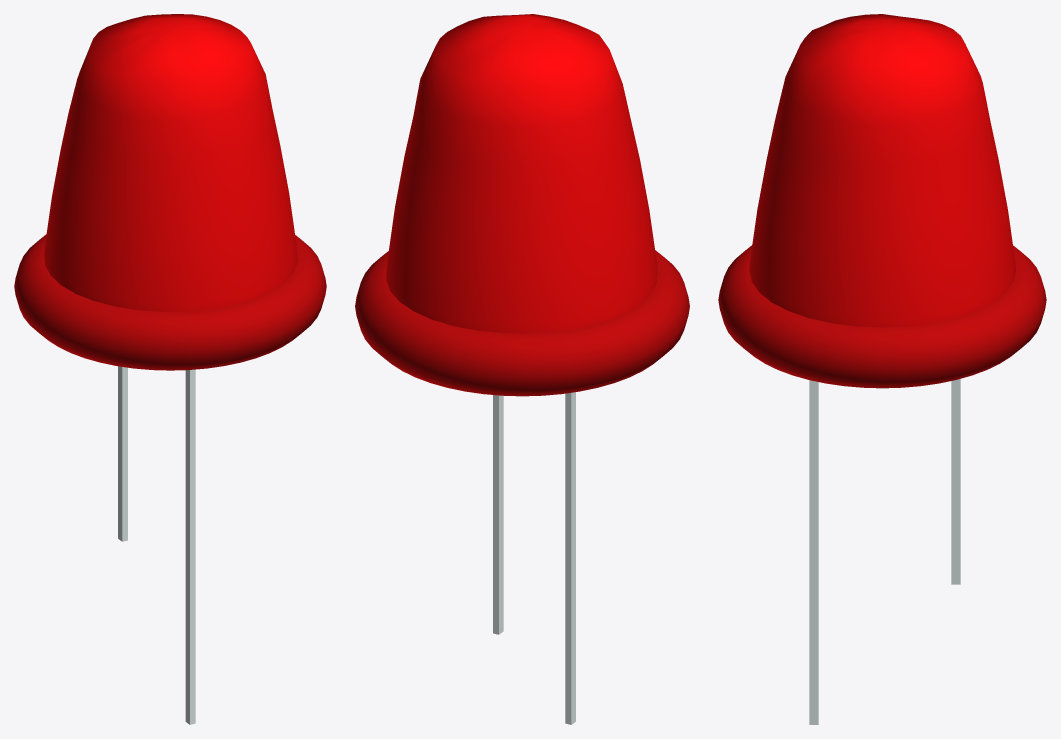
Rendered from LED Red.fbx.
The picture shows the model from 3 angles, left to right: view 1: azimuth 30°, elevation 25°; view 2: azimuth 150°, elevation 25°; view 3: azimuth 270°, elevation 25°; orthographic projection. The views are drawn at different scales.
Parts seen in each view (by area): view 1: Cone, Cube.002, Cube.003; view 2: Cone, Cube.002, Cube.003; view 3: Cone, Cube.002, Cube.003.
Boxes of the visible parts, x1,y1,x2,y2 form: Cone: (14, 14, 326, 370); Cube.002: (185, 369, 195, 724); Cube.003: (118, 366, 127, 541); Cone: (355, 14, 689, 396); Cube.002: (565, 392, 575, 724); Cube.003: (493, 395, 503, 634); Cone: (718, 14, 1046, 388); Cube.002: (809, 380, 818, 724); Cube.003: (951, 379, 960, 584).
Size of the model in its own units: 11.47 by 27.07 by 11.47.
